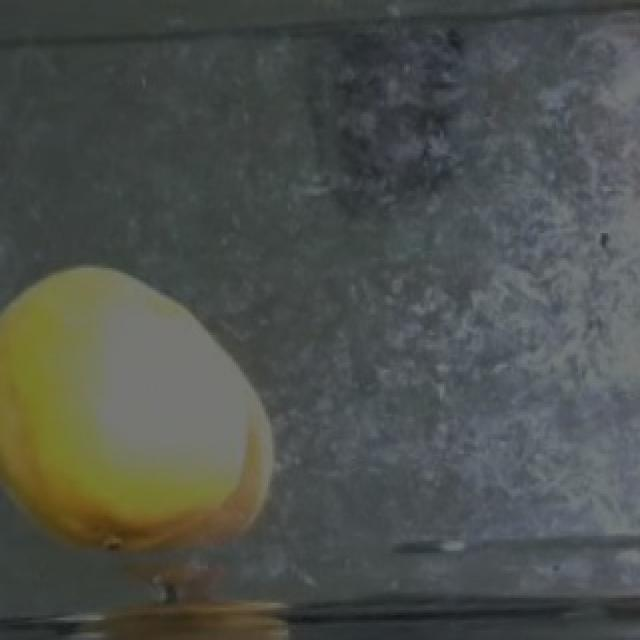fruit: (0, 235, 290, 580)
